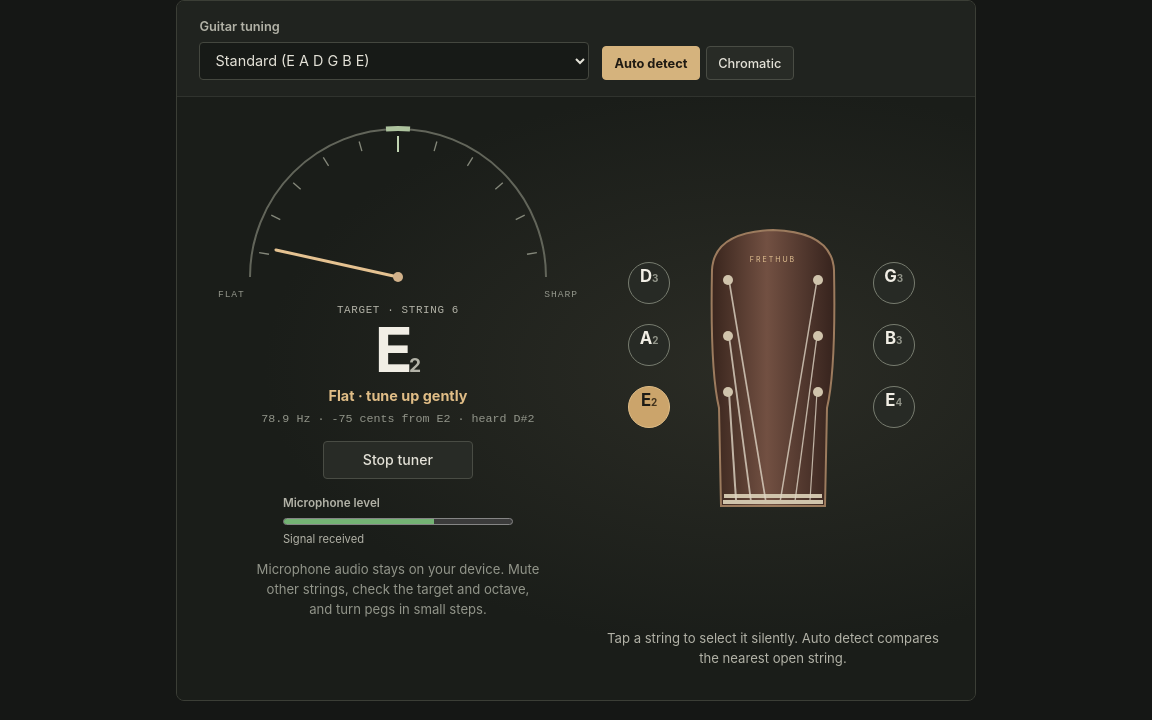
Test: tuner microphone flow › guides a flat guitar string against its target, while preserving chromatic mode
Expected: the text "TARGET · STRING 6" is shown, [337,304,459,316]
Expected: the text "Flat · tune up gently" is shown, [328,385,467,407]
What coordinates should you click on to do the following:
click the button "Chromatic"
I would click on:
 (750, 63)
Its box is [706,46,794,80].
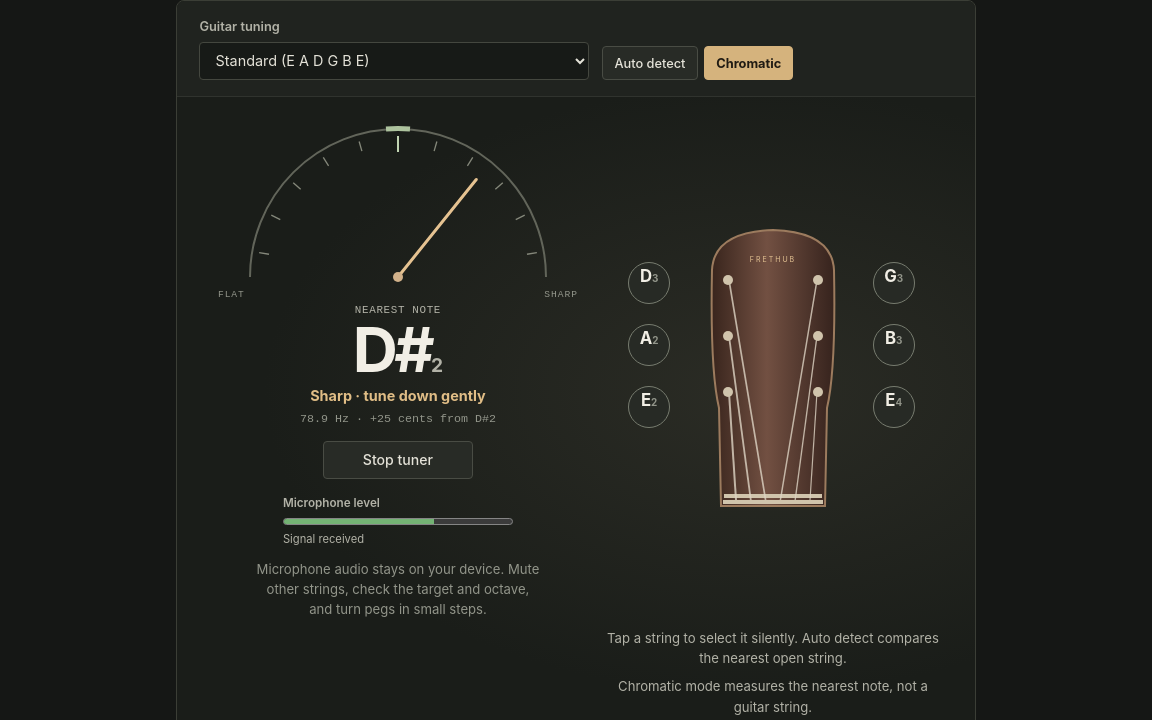
Result: the text "NEAREST NOTE" is shown at [355,304,441,316]
Result: the text "Sharp · tune down gently" is shown at [310,385,486,407]
Result: the text "78.9 Hz · +25 cents from D#2" is shown at [300,410,496,428]
